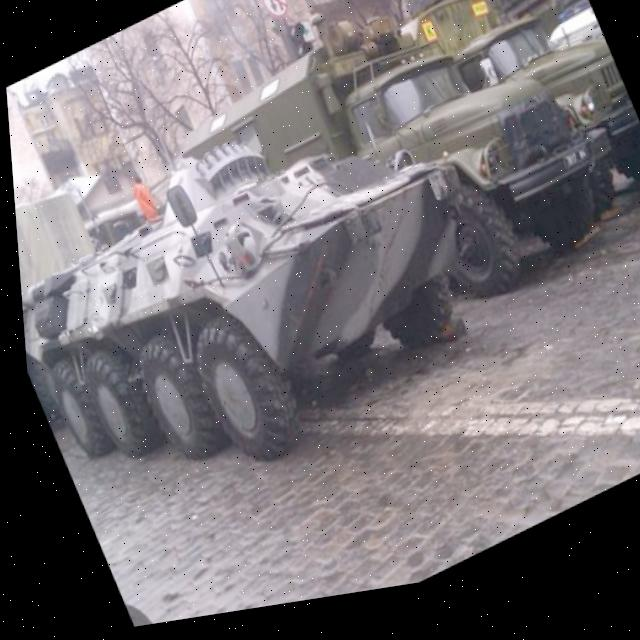MIL_APC: (8, 74, 507, 520)
